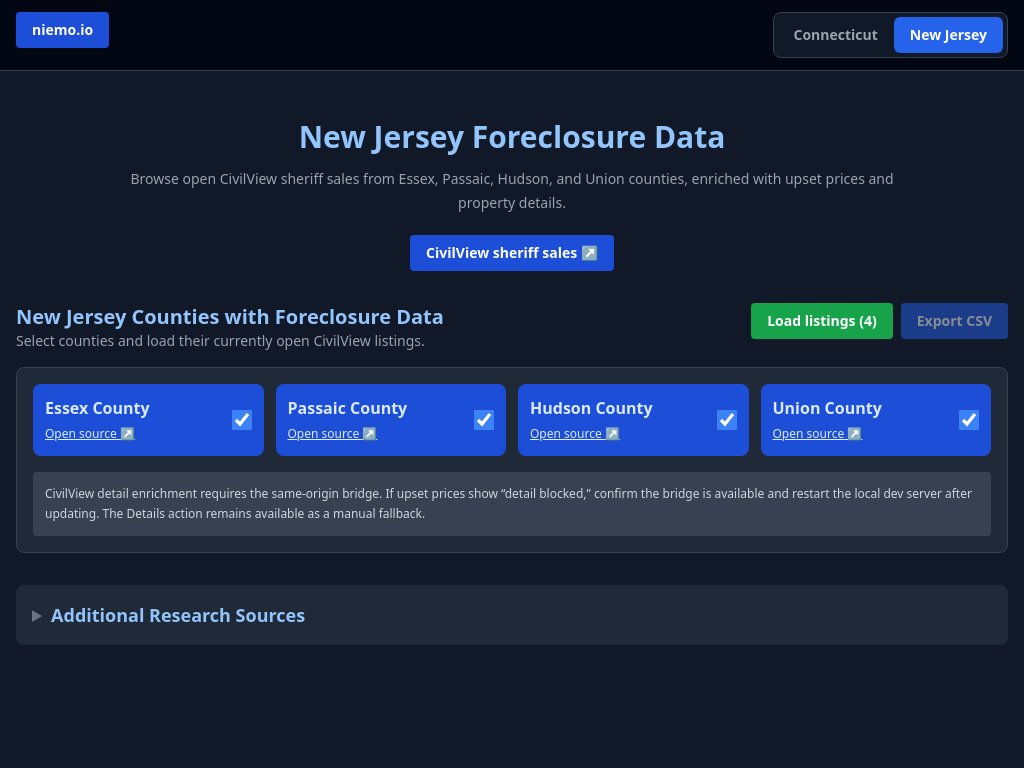
Test: opens New Jersey by default and allows switching to Connecticut
This screenshot has width=1024, height=768.
Expected: the heading "New Jersey Foreclosure Data" is shown, x1=299 y1=116 x2=725 y2=157
Click the button "Connecticut": x=836, y=35 x1=778 y1=17 x2=894 y2=53
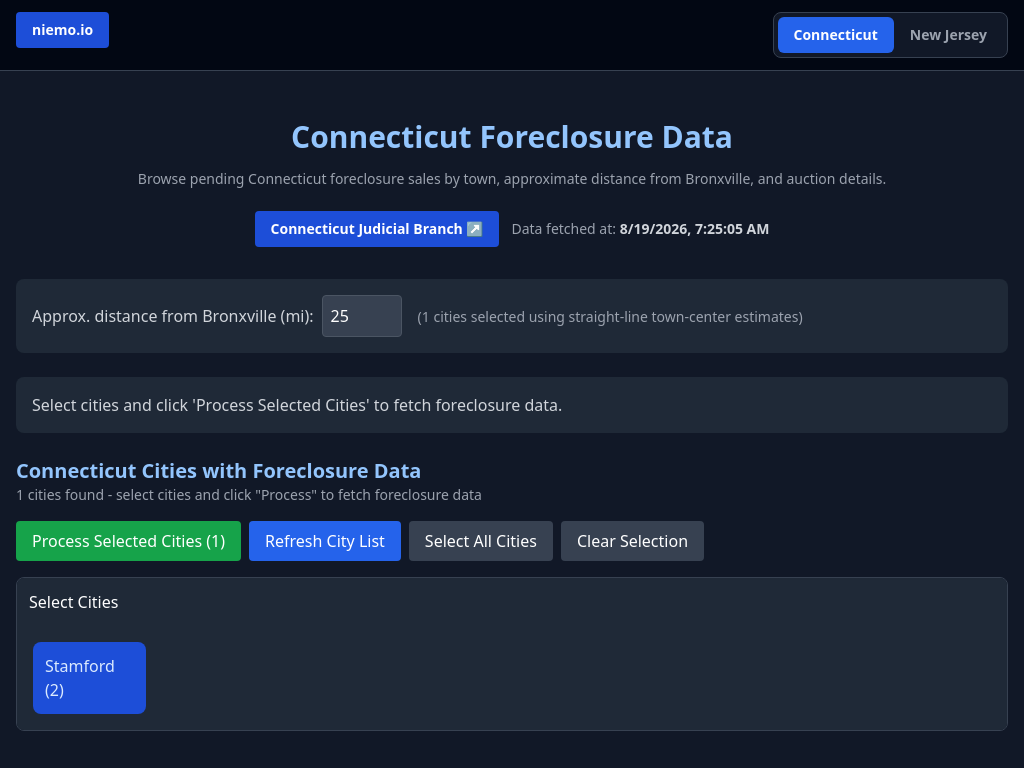
Expected: the heading "Connecticut Foreclosure Data" is shown, x1=291 y1=116 x2=733 y2=157
Expected: the text "Stamford (2)" is shown, x1=45 y1=655 x2=115 y2=701
Expected: the number field named "Approximate distance from Bronxville" holds "25", x1=322 y1=295 x2=402 y2=337
